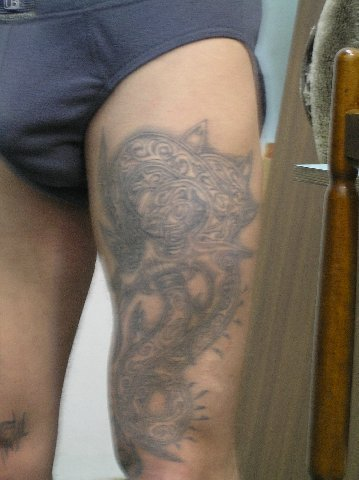tatu6_drakon: (80, 98, 249, 479)
